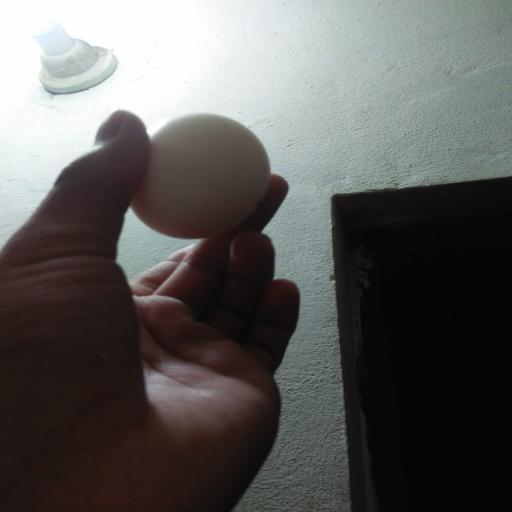telur: (126, 111, 274, 238)
